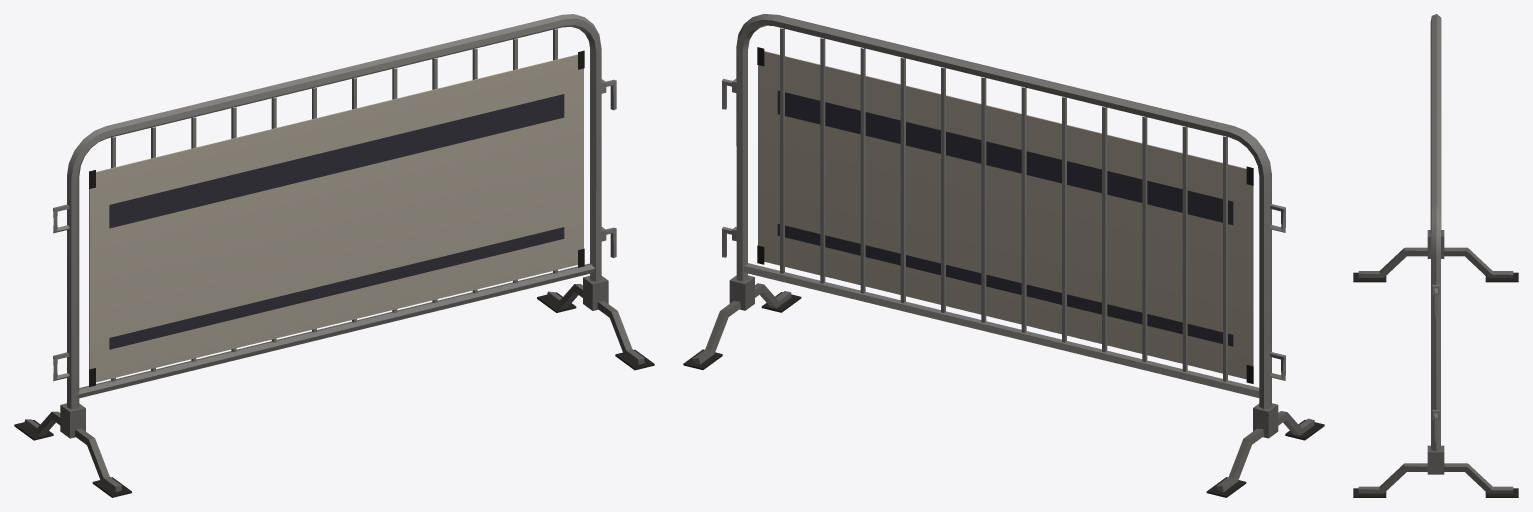
File: crowd_barrier.glb
3 views of the same model, side by side, from view 1: azimuth 30°, elevation 25°; view 2: azimuth 150°, elevation 25°; view 3: azimuth 270°, elevation 25° (orthographic). The views are drawn at different scales.
Parts seen in each view (by area): view 1: crowd_barrier; view 2: crowd_barrier; view 3: crowd_barrier.
Boxes of the visible parts, x1,y1,x2,y2 form: crowd_barrier: [14, 14, 654, 497]; crowd_barrier: [683, 14, 1324, 497]; crowd_barrier: [1353, 14, 1518, 497].
Size of the model in its own units: 1.99 by 1.1 by 0.6.
